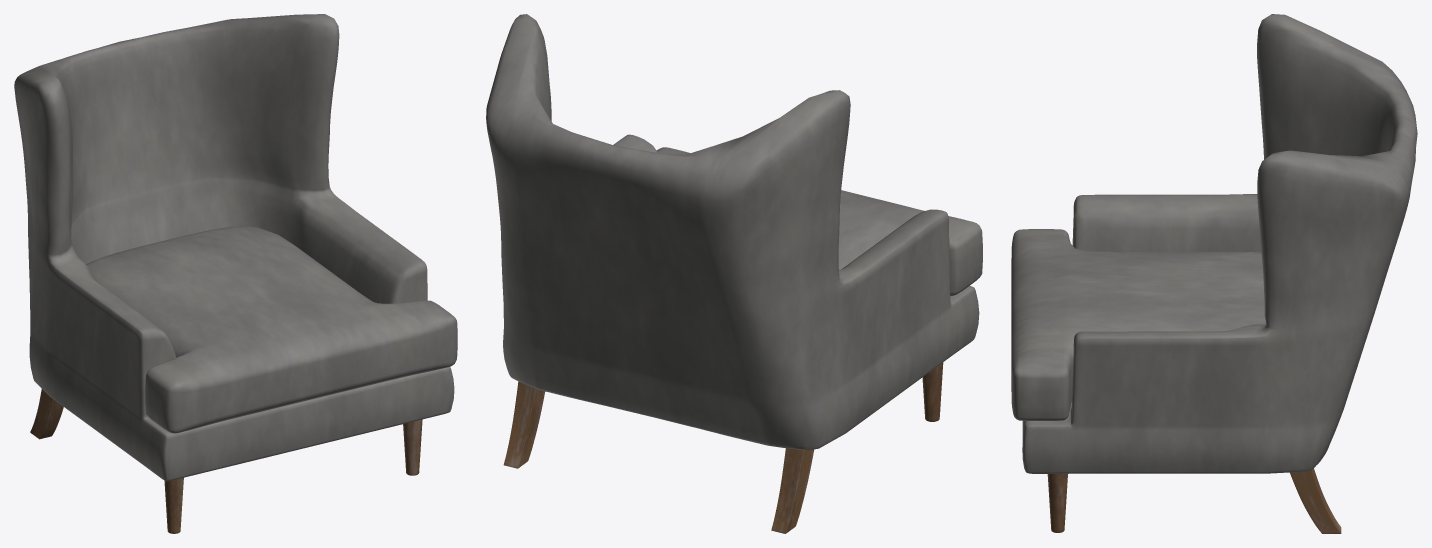
Rendered from office_chair_B0746DPMTR.glb.
3 views of the same model, side by side, from view 1: azimuth 30°, elevation 25°; view 2: azimuth 150°, elevation 25°; view 3: azimuth 270°, elevation 25° (orthographic). The views are drawn at different scales.
Parts seen in each view (by area): view 1: RootNode; view 2: RootNode; view 3: RootNode.
Boxes of the visible parts, bbox=[...] form: RootNode: bbox=[14, 14, 457, 533]; RootNode: bbox=[486, 14, 982, 533]; RootNode: bbox=[1011, 14, 1417, 533].
Bounding box in the file's own units: 0.7841 × 0.9505 × 0.9062.
1 material, 1 textured.
